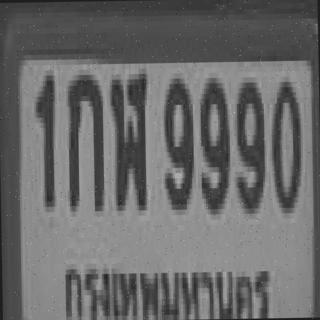A01: (65, 69, 102, 206)
A42: (110, 68, 146, 205)
N00: (269, 76, 300, 208)
N01: (33, 70, 54, 207)
N09: (198, 72, 229, 209), (162, 73, 192, 204), (234, 77, 263, 208)
P04: (57, 250, 276, 320)
